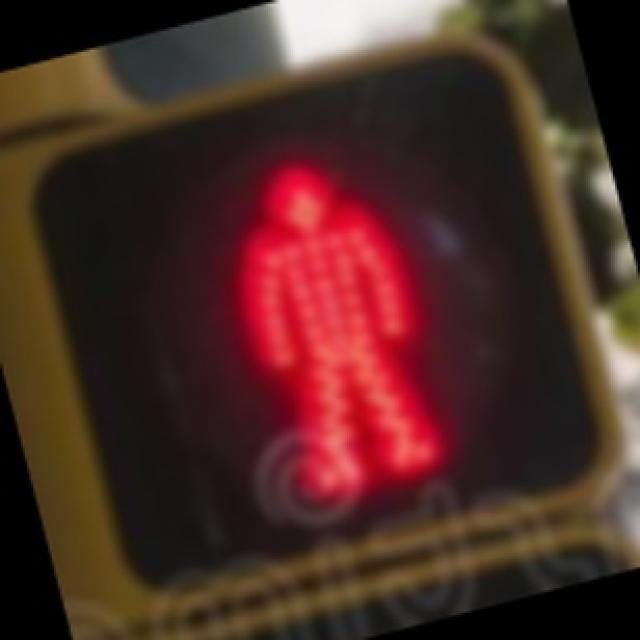red-crossing: (58, 56, 576, 578)
